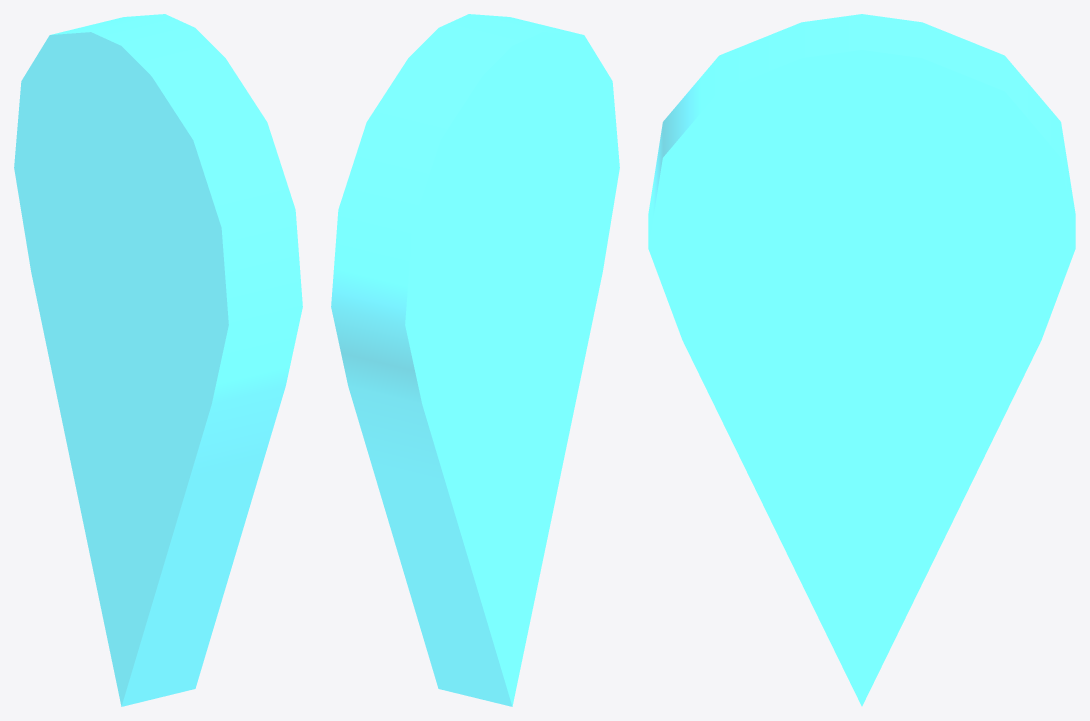
Rendered from SegnalinoPersonaggioMappa.fbx.
3 renders of one model, left to right at view 1: azimuth 30°, elevation 25°; view 2: azimuth 150°, elevation 25°; view 3: azimuth 270°, elevation 25°, orthographic.
Parts seen in each view (by area): view 1: Plane.001; view 2: Plane.001; view 3: Plane.001.
Part boxes in pixels (left/top/right/bottom): Plane.001: left=14, top=14, right=302, bottom=706; Plane.001: left=331, top=14, right=619, bottom=706; Plane.001: left=648, top=14, right=1075, bottom=706.
Bounding box in the file's own units: 17.49 × 149 × 87.9.
